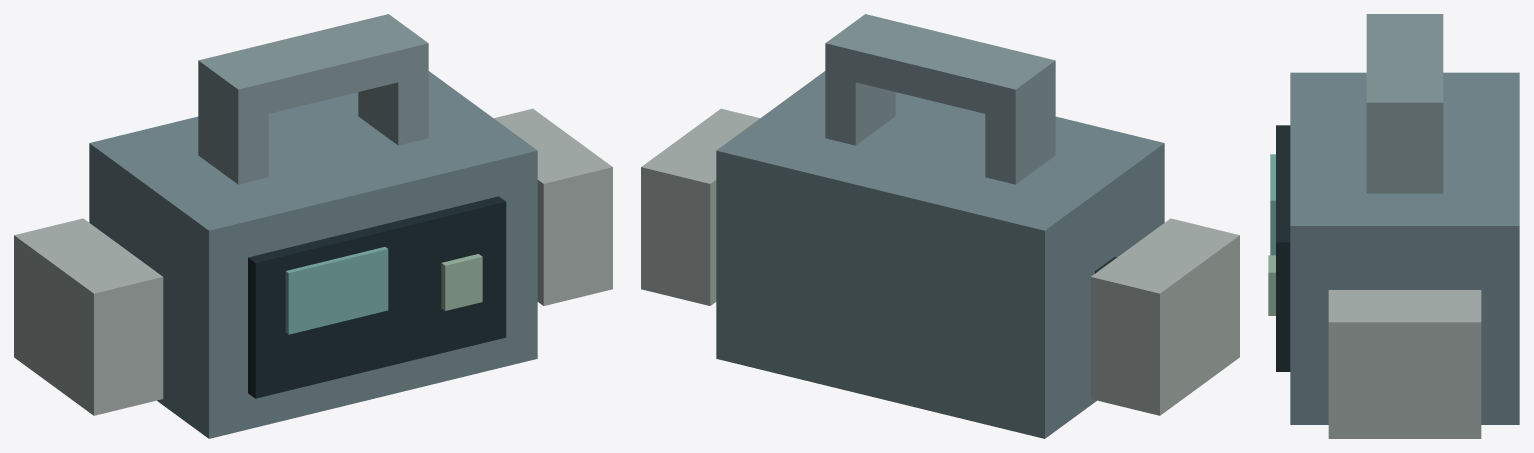
Rendered from CMU3DPortableDefibrillator.glb.
3 views of the same model, side by side, from view 1: azimuth 30°, elevation 25°; view 2: azimuth 150°, elevation 25°; view 3: azimuth 270°, elevation 25° (orthographic). The views are drawn at different scales.
Parts seen in each view (by area): view 1: defib body, dark face, left paddle, handle top, right paddle, screen, handle left, handle right, control; view 2: defib body, left paddle, handle top, right paddle, handle left, handle right; view 3: defib body, right paddle, handle top, handle right, dark face, screen, control.
Boxes of the visible parts, x1,y1,x2,y2 form: defib body: (89, 71, 537, 438); dark face: (248, 196, 506, 398); left paddle: (14, 218, 163, 415); handle top: (198, 14, 428, 121); right paddle: (494, 108, 612, 305); screen: (285, 247, 388, 334); handle left: (198, 84, 268, 184); handle right: (358, 66, 428, 145); control: (441, 254, 482, 310); defib body: (716, 71, 1164, 438); left paddle: (1090, 218, 1239, 415); handle top: (825, 14, 1055, 121); right paddle: (641, 108, 759, 305); handle left: (985, 83, 1055, 184); handle right: (825, 66, 895, 145); defib body: (1290, 72, 1519, 424); right paddle: (1328, 290, 1481, 438); handle top: (1366, 14, 1443, 132); handle right: (1366, 124, 1443, 193); dark face: (1276, 125, 1290, 371); screen: (1270, 154, 1275, 255); control: (1268, 255, 1275, 315).
Bounding box in the file's own units: 0.6 × 0.335 × 0.263.
